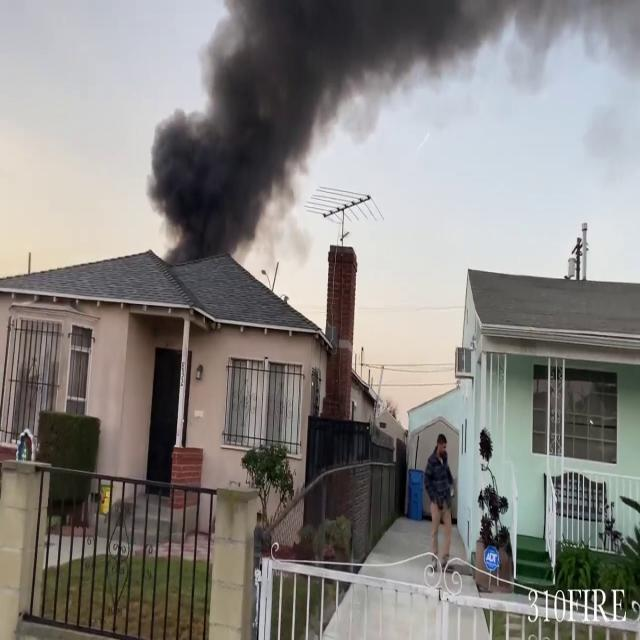Smoke: (145, 1, 638, 270)
